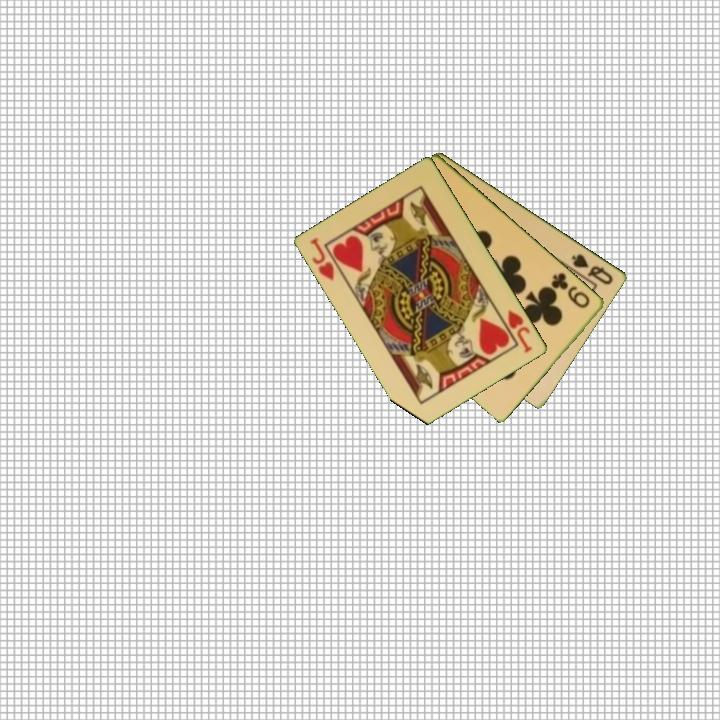9c: (548, 269, 593, 311)
Jh: (495, 306, 536, 356), (307, 234, 338, 284)
Qs: (568, 250, 616, 288)
